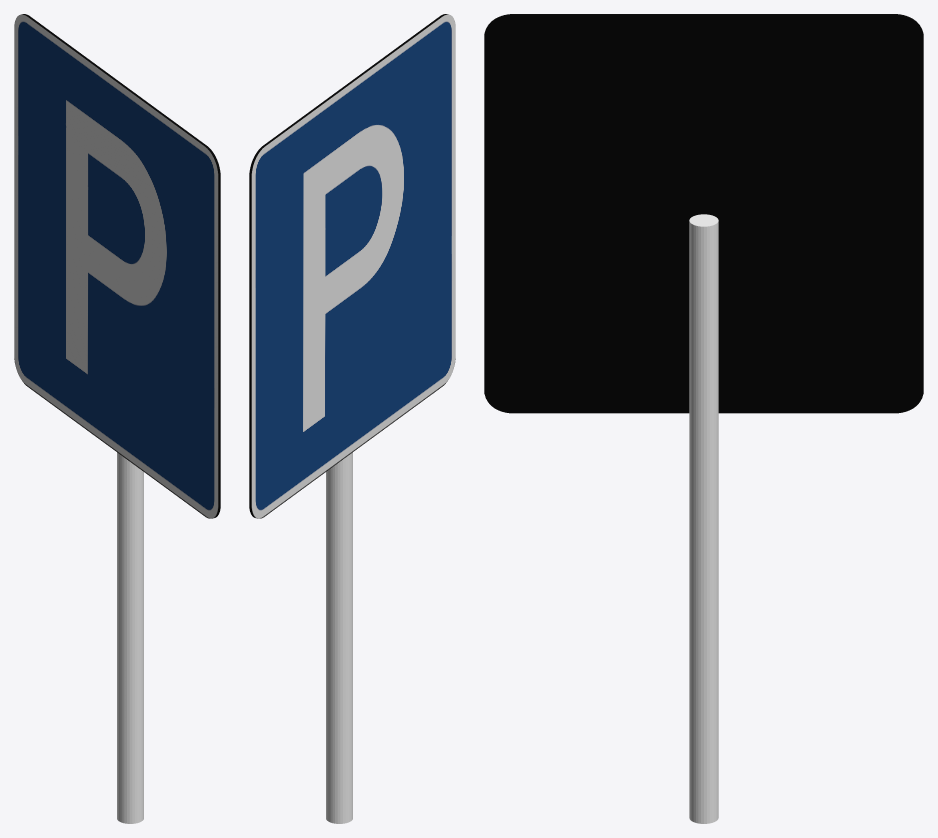
The model's file is parking_sign.dae.
3 renders of one model, left to right at view 1: azimuth 30°, elevation 25°; view 2: azimuth 150°, elevation 25°; view 3: azimuth 270°, elevation 25°, orthographic. The views are drawn at different scales.
Parts seen in each view (by area): view 1: path3678, Cylinder; view 2: path3678, Cylinder; view 3: path3678, Cylinder.
Boxes of the visible parts, bbox=[...] form: path3678: bbox=[14, 14, 220, 518]; Cylinder: bbox=[117, 452, 143, 823]; path3678: bbox=[249, 14, 455, 518]; Cylinder: bbox=[326, 452, 352, 823]; path3678: bbox=[484, 14, 923, 413]; Cylinder: bbox=[689, 214, 718, 823].
Bounding box in the file's own units: 0.011 × 0.15 × 0.3.
3 materials, 2 textured.
